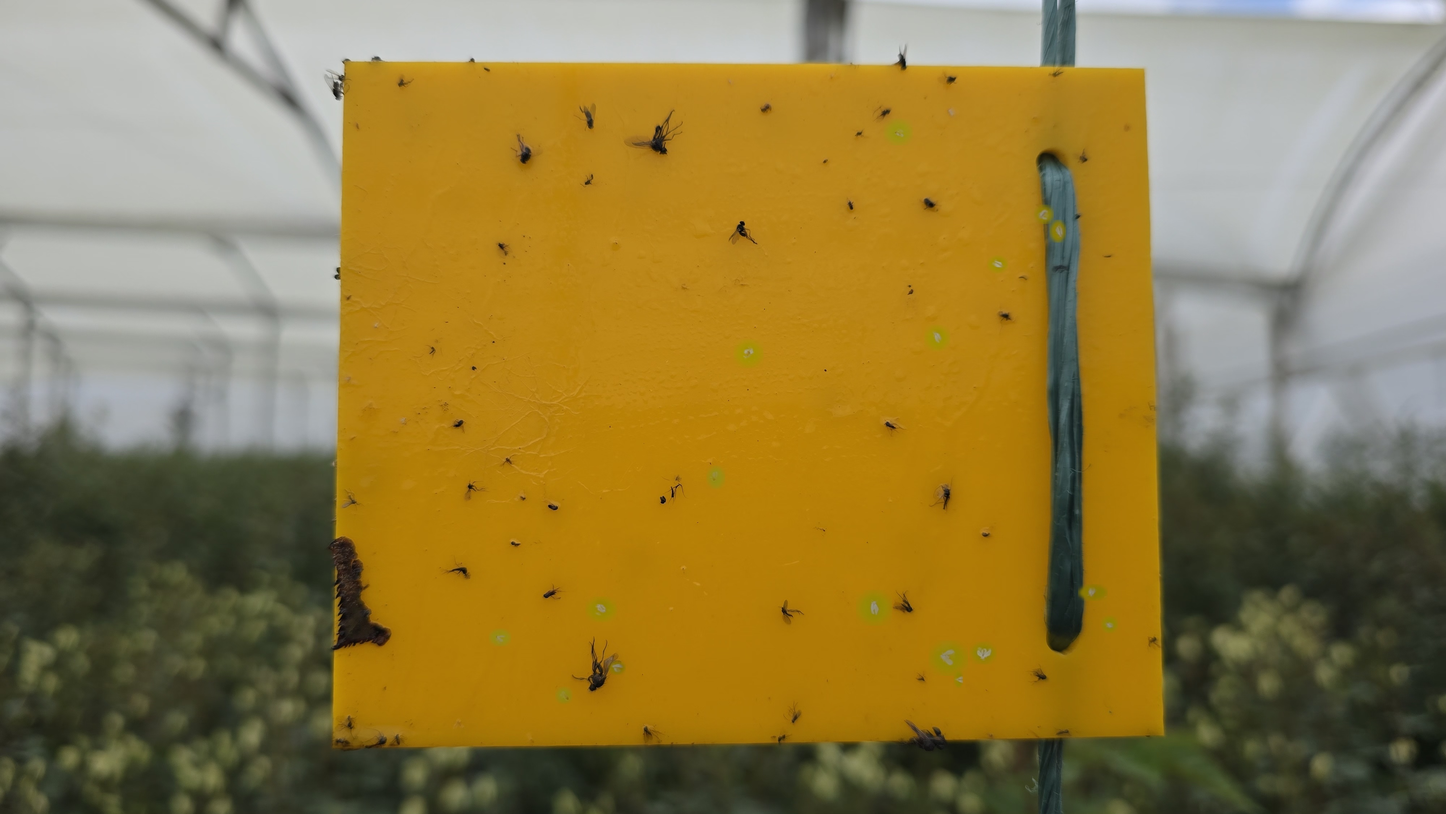WF: (934, 645, 962, 671), (861, 595, 887, 620), (738, 343, 759, 364), (590, 600, 612, 618), (888, 123, 908, 141), (928, 329, 946, 347), (974, 645, 992, 661), (1082, 586, 1103, 598), (709, 469, 722, 485), (1037, 207, 1051, 221), (1052, 223, 1064, 239), (492, 631, 508, 643), (990, 258, 1005, 270), (1103, 618, 1115, 630), (558, 689, 569, 701), (611, 663, 623, 673), (947, 107, 956, 118), (955, 673, 962, 685), (373, 324, 380, 330)
